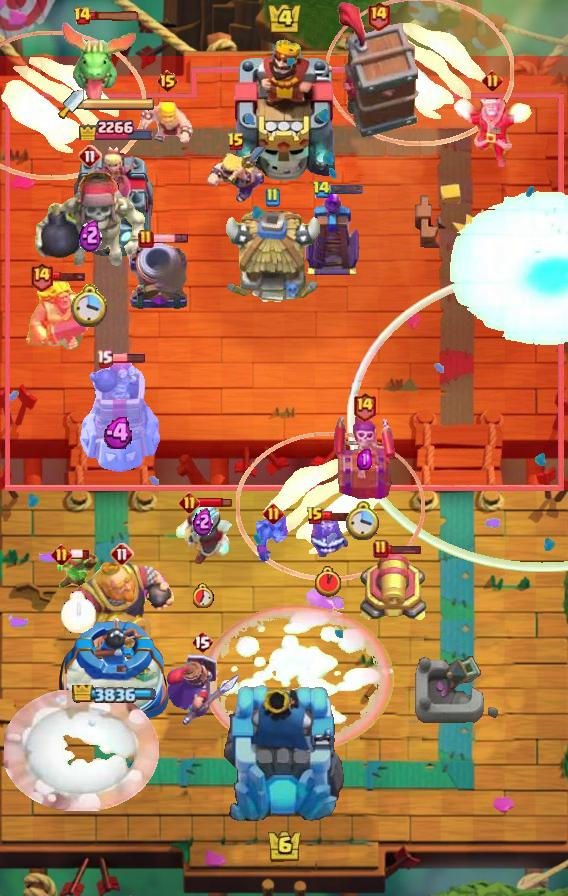archer: (139, 98, 195, 146)
arrows: (207, 148, 265, 205)
bar: (70, 142, 158, 256)
dart-goblin: (336, 0, 420, 138)
electro-giant: (31, 170, 149, 284)
electro-spirit: (104, 417, 137, 449), (79, 217, 102, 252), (193, 506, 213, 536), (357, 449, 371, 471)
electro-wizard: (57, 19, 139, 105)
elixir: (71, 282, 110, 327), (60, 591, 96, 633), (346, 499, 382, 540), (315, 567, 341, 598), (193, 584, 215, 609)
elixir-golem-big: (164, 650, 240, 726)
emote: (89, 10, 141, 21), (152, 232, 189, 244), (51, 270, 87, 282), (110, 352, 146, 364), (322, 510, 358, 522), (197, 496, 232, 508), (328, 185, 364, 196), (387, 544, 422, 555), (70, 548, 90, 560)
giant-skeleton: (66, 558, 179, 662)
giant-snowball: (54, 551, 102, 595)
goblin-cage: (126, 242, 190, 312)
goblin-hut: (22, 277, 96, 355)
ice-spirit-evolution-symbol: (302, 185, 362, 277)
ice-wizard: (236, 431, 424, 581), (326, 0, 515, 146), (0, 32, 146, 181)
king-tower: (221, 682, 347, 826), (228, 35, 340, 181)
king-tower-bar: (84, 97, 156, 111)
mega-knight: (446, 187, 568, 349)
mortar: (449, 96, 535, 170), (174, 501, 232, 567)
phoenix-big: (201, 602, 395, 753)
prince: (221, 211, 323, 307)
queen-tower: (54, 614, 173, 730)
royal-delivery: (251, 515, 295, 561)
royal-recruit: (358, 552, 430, 626)
selected: (75, 114, 152, 140), (71, 685, 156, 703)
skeleton-king-bar: (333, 413, 395, 499)
spear-goblin: (308, 513, 348, 557)
text: (30, 261, 55, 292), (351, 391, 376, 421), (366, 0, 390, 31), (78, 144, 102, 168), (110, 542, 134, 566), (157, 69, 180, 93), (191, 630, 213, 654), (179, 491, 201, 513), (51, 544, 73, 565), (481, 70, 502, 91), (263, 504, 284, 525), (72, 6, 91, 26), (312, 181, 331, 200), (227, 132, 245, 152), (306, 506, 324, 526), (96, 349, 113, 368), (264, 187, 280, 207), (138, 229, 154, 249), (373, 539, 389, 559)
wall-breaker: (4, 690, 159, 811)
zappy: (77, 355, 161, 477)
